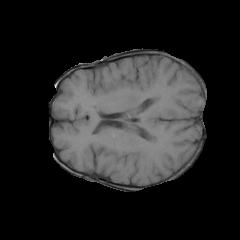glioma: (142, 84, 171, 114)
